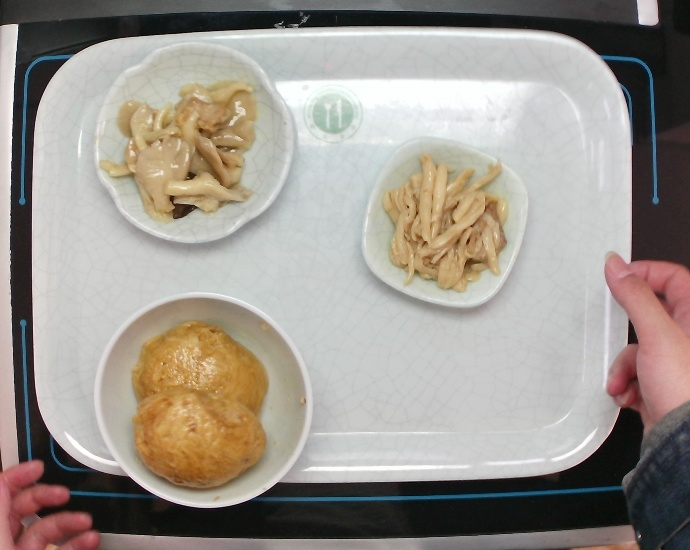JYsf-Ao_Yuan_Wan: (86, 34, 300, 248)
JYsf-Fan_Wan: (87, 284, 317, 513)
JYsf-Si_Fang_Die: (358, 131, 534, 314)
